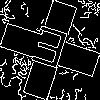E: (25, 25, 71, 78)
